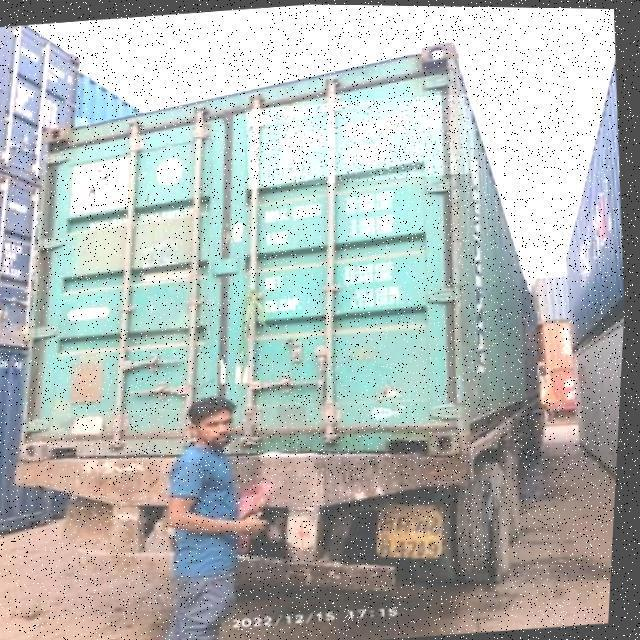container_number_h: (243, 88, 480, 190)
